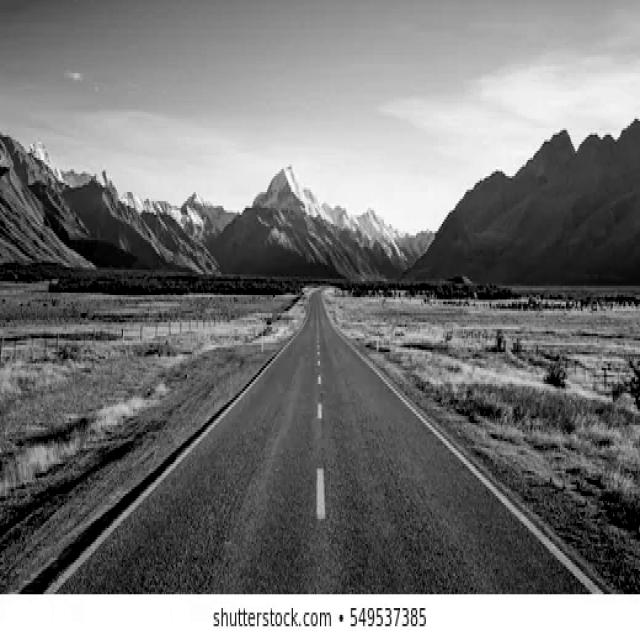cleat: (180, 174, 500, 586)
